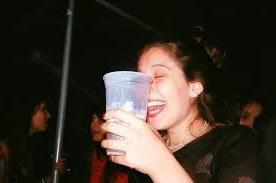Drunk: (135, 49, 188, 131)
